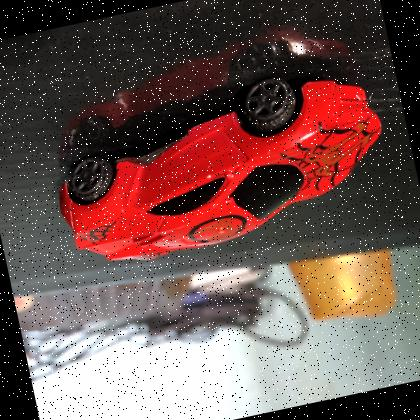Car: (34, 53, 408, 289)
